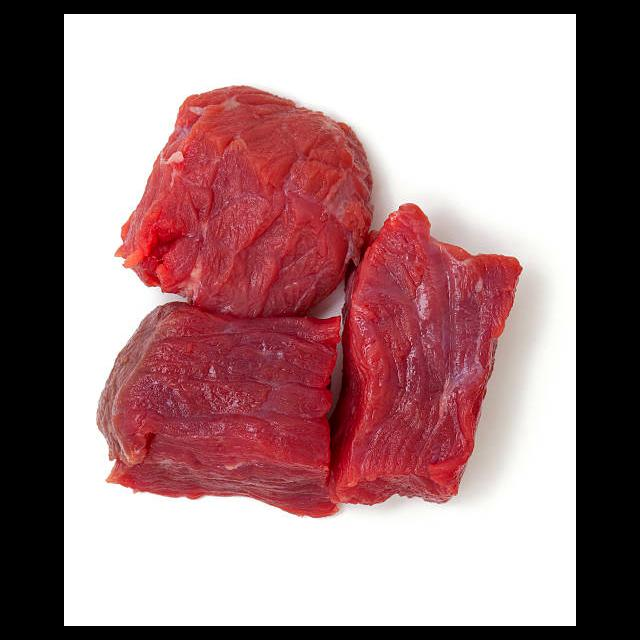beef: (93, 81, 523, 519)
